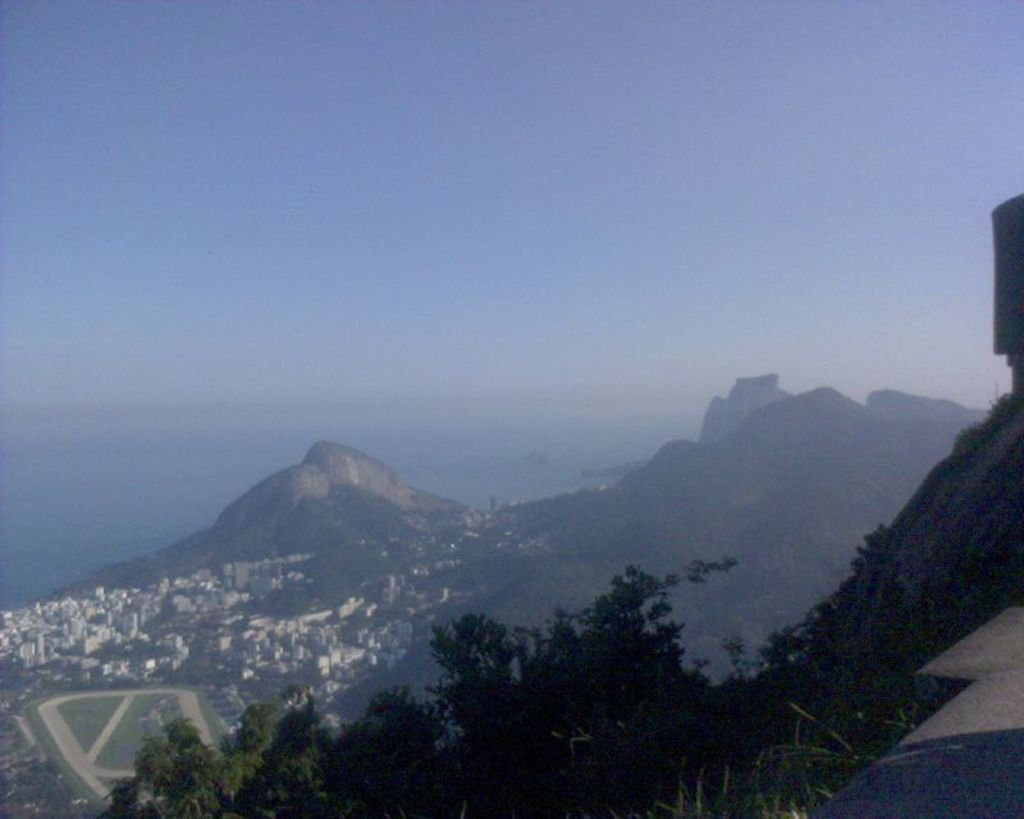Tree: (108, 548, 750, 816), (765, 515, 888, 659)
